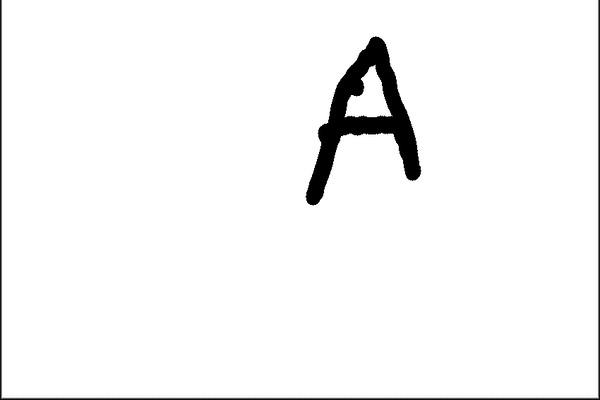A: (294, 28, 437, 209)
